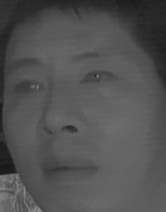eye: (77, 67, 119, 89), (13, 79, 47, 99)
mouth: (40, 151, 101, 186)
